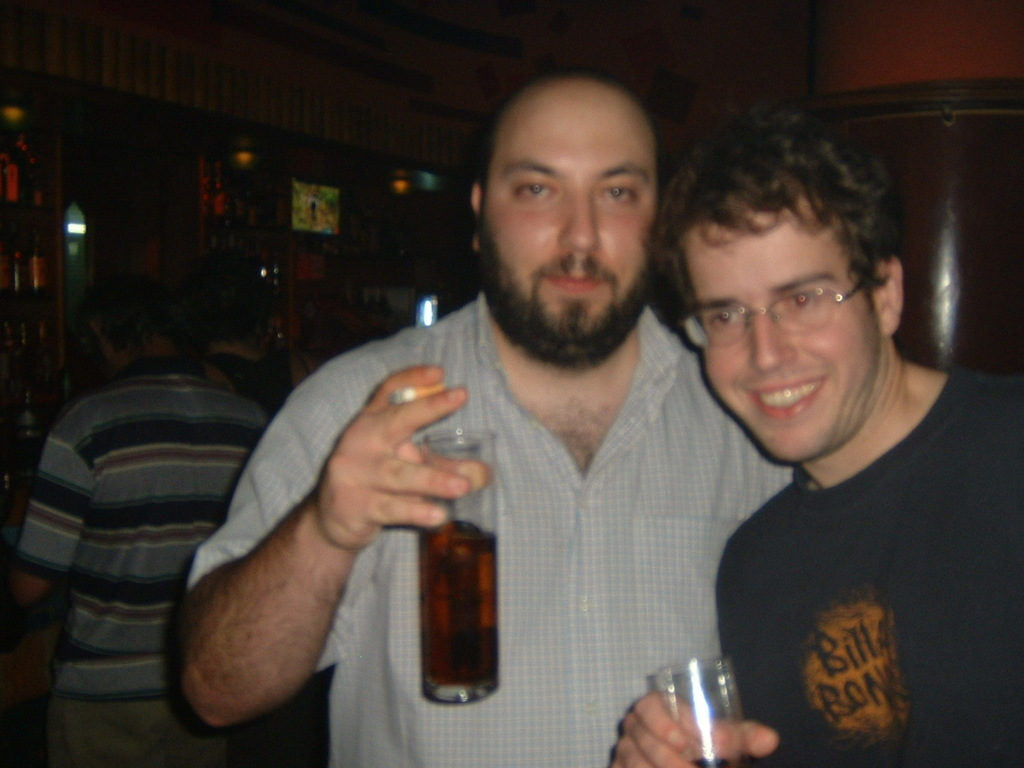Beer: (422, 518, 503, 690)
